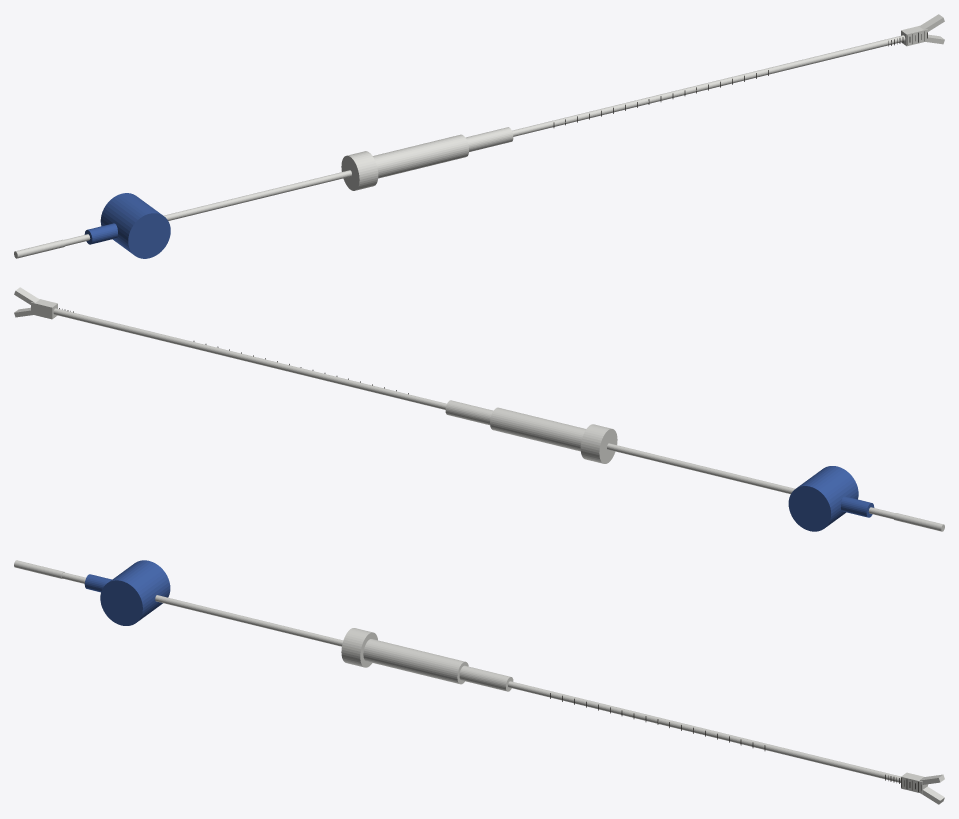
The model's file is drillbit.fbx.
The picture shows the model from 3 angles, top to bottom: view 1: azimuth 30°, elevation 25°; view 2: azimuth 150°, elevation 25°; view 3: azimuth 330°, elevation 25°; orthographic projection.
Parts seen in each view (by area): view 1: REMOVABLE_FLIPCUTTER_DRILL_main_shaft_D_3_5mm, REMOVABLE_FLIPCUTTER_DRILL_blue_round_handle.002, STEPPED_GUIDE_SLEEVE_outer_body_3_5mm_bore, STEPPED_GUIDE_SLEEVE_TIP_outer_7_0mm_depth_stop.001, REMOVABLE_FLIPCUTTER_DRILL_short_reamer_body; view 2: REMOVABLE_FLIPCUTTER_DRILL_main_shaft_D_3_5mm, REMOVABLE_FLIPCUTTER_DRILL_blue_round_handle.002, STEPPED_GUIDE_SLEEVE_outer_body_3_5mm_bore, STEPPED_GUIDE_SLEEVE_TIP_outer_7_0mm_depth_stop.001, REMOVABLE_FLIPCUTTER_DRILL_short_reamer_body; view 3: REMOVABLE_FLIPCUTTER_DRILL_main_shaft_D_3_5mm, REMOVABLE_FLIPCUTTER_DRILL_blue_round_handle.002, STEPPED_GUIDE_SLEEVE_outer_body_3_5mm_bore, STEPPED_GUIDE_SLEEVE_TIP_outer_7_0mm_depth_stop.001, REMOVABLE_FLIPCUTTER_DRILL_short_reamer_body.
Boxes of the visible parts, x1,y1,x2,y2 form: REMOVABLE_FLIPCUTTER_DRILL_main_shaft_D_3_5mm: (64, 35, 905, 246); REMOVABLE_FLIPCUTTER_DRILL_blue_round_handle.002: (100, 193, 170, 258); STEPPED_GUIDE_SLEEVE_outer_body_3_5mm_bore: (373, 134, 468, 178); STEPPED_GUIDE_SLEEVE_TIP_outer_7_0mm_depth_stop.001: (341, 151, 378, 190); REMOVABLE_FLIPCUTTER_DRILL_short_reamer_body: (465, 127, 513, 151); REMOVABLE_FLIPCUTTER_DRILL_main_shaft_D_3_5mm: (53, 308, 894, 519); REMOVABLE_FLIPCUTTER_DRILL_blue_round_handle.002: (788, 466, 858, 531); STEPPED_GUIDE_SLEEVE_outer_body_3_5mm_bore: (490, 407, 585, 451); STEPPED_GUIDE_SLEEVE_TIP_outer_7_0mm_depth_stop.001: (580, 424, 617, 463); REMOVABLE_FLIPCUTTER_DRILL_short_reamer_body: (445, 400, 493, 425); REMOVABLE_FLIPCUTTER_DRILL_main_shaft_D_3_5mm: (62, 572, 900, 782); REMOVABLE_FLIPCUTTER_DRILL_blue_round_handle.002: (100, 560, 170, 625); STEPPED_GUIDE_SLEEVE_outer_body_3_5mm_bore: (363, 639, 468, 684); STEPPED_GUIDE_SLEEVE_TIP_outer_7_0mm_depth_stop.001: (341, 628, 377, 667); REMOVABLE_FLIPCUTTER_DRILL_short_reamer_body: (459, 665, 513, 691).
Bounding box in the file's own units: 1479 × 68 × 76.
